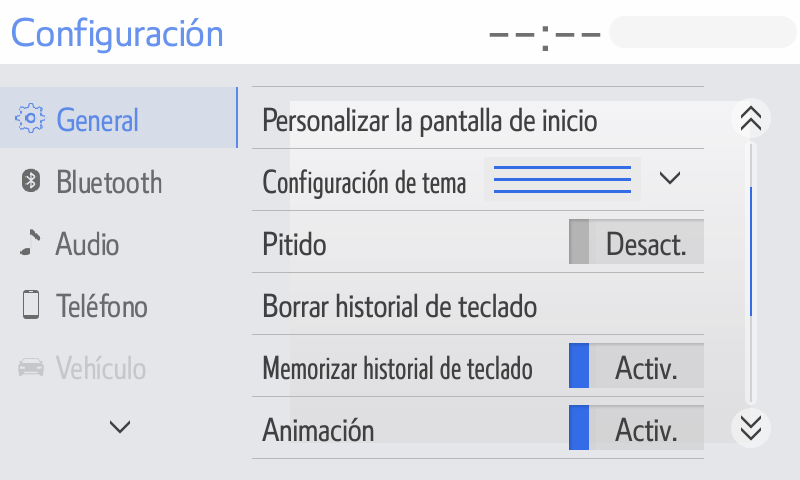touchPart: (245, 391, 714, 466), (250, 81, 711, 154), (248, 209, 708, 280), (251, 269, 712, 339), (246, 330, 714, 398), (249, 144, 706, 213), (14, 159, 166, 212), (15, 224, 150, 275), (16, 284, 147, 329), (732, 405, 772, 453), (736, 97, 770, 140), (104, 409, 137, 450)
untouchPart: (465, 5, 800, 56), (1, 85, 242, 148), (10, 10, 225, 55), (11, 346, 158, 384)
